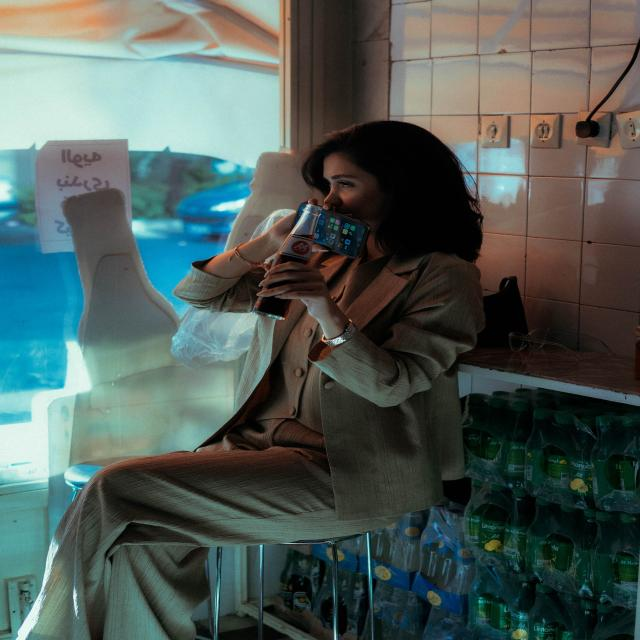Bottle: (273, 205, 322, 267), (592, 415, 621, 508), (505, 488, 535, 573), (525, 409, 554, 495), (504, 401, 532, 487), (592, 511, 617, 597), (390, 512, 425, 572), (574, 510, 597, 597), (569, 430, 594, 508), (550, 506, 580, 571), (527, 498, 552, 574), (478, 494, 509, 553), (529, 584, 562, 639), (482, 397, 508, 465), (617, 514, 639, 589), (510, 574, 535, 639), (463, 394, 488, 457), (470, 561, 493, 627), (346, 573, 368, 637), (383, 588, 408, 639), (291, 554, 313, 611), (401, 592, 427, 639), (374, 581, 394, 638), (280, 549, 297, 609), (546, 446, 569, 490), (557, 593, 579, 639), (466, 504, 485, 546), (617, 455, 639, 491), (490, 596, 510, 632), (581, 599, 597, 639), (597, 603, 620, 625), (635, 326, 639, 379)
